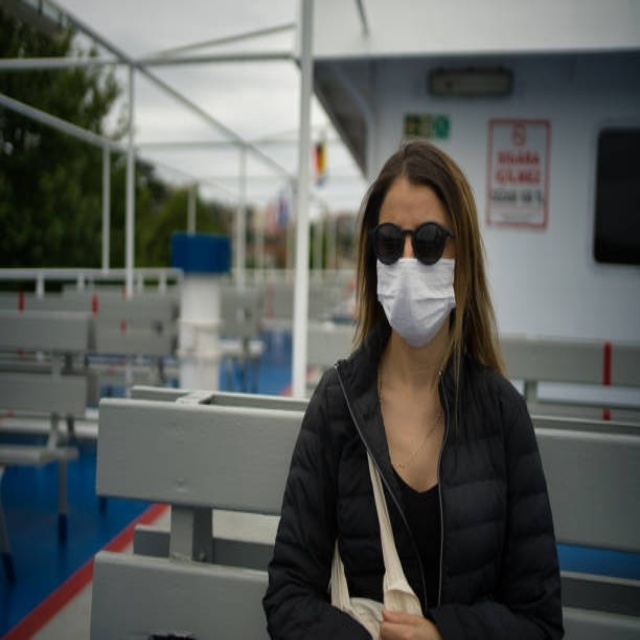Gafas: (371, 221, 455, 265)
Mascara: (376, 252, 457, 347)
